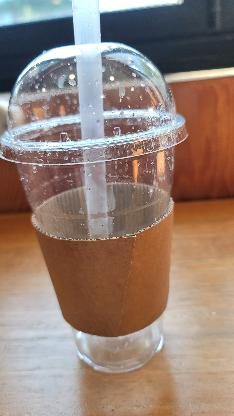Plastic Cup: (0, 42, 190, 372)
